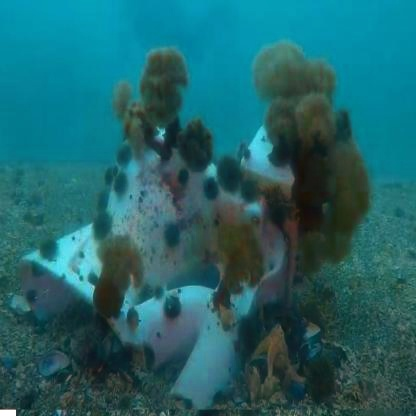misc: (104, 119, 322, 362)
